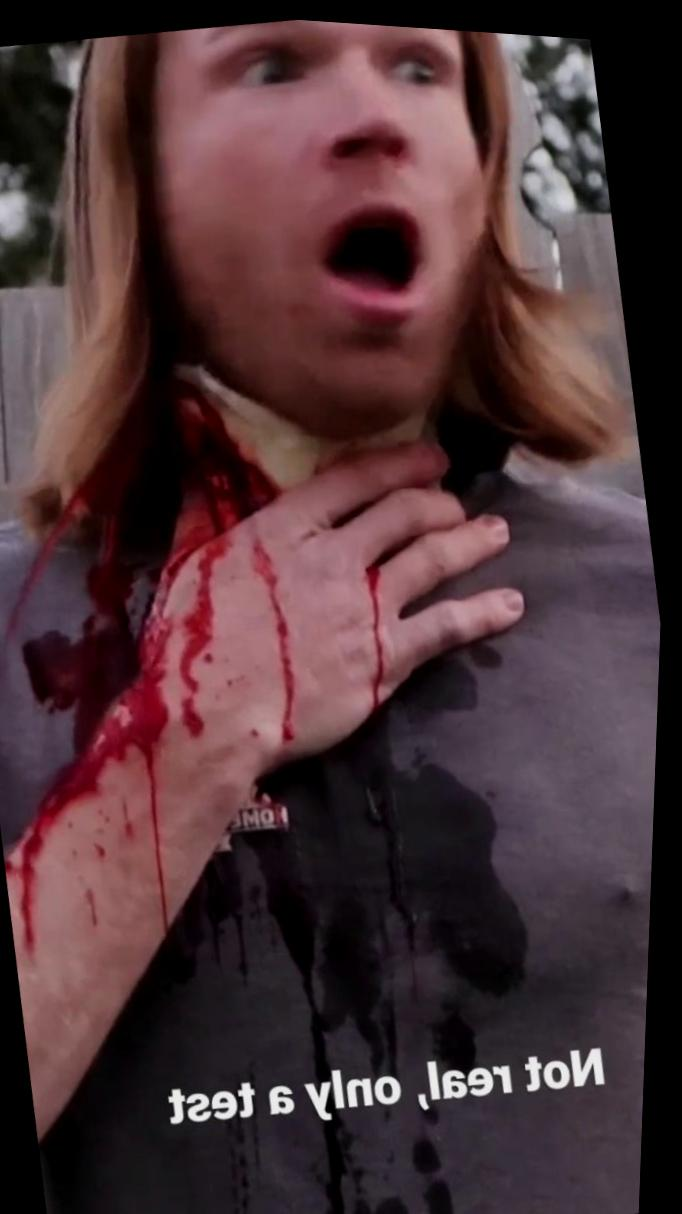Fire: (11, 577, 235, 983), (29, 541, 164, 751), (11, 455, 142, 640), (177, 377, 280, 540), (256, 536, 302, 739), (159, 507, 242, 619), (370, 558, 391, 709)
